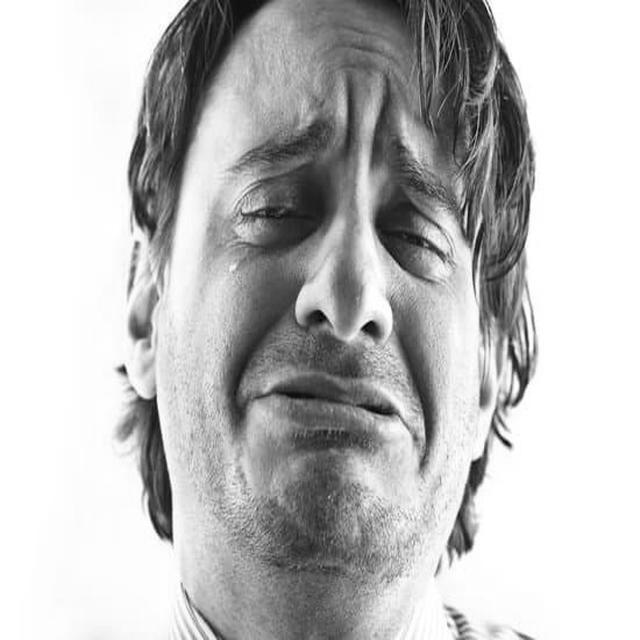Sadness: (215, 36, 478, 553)
